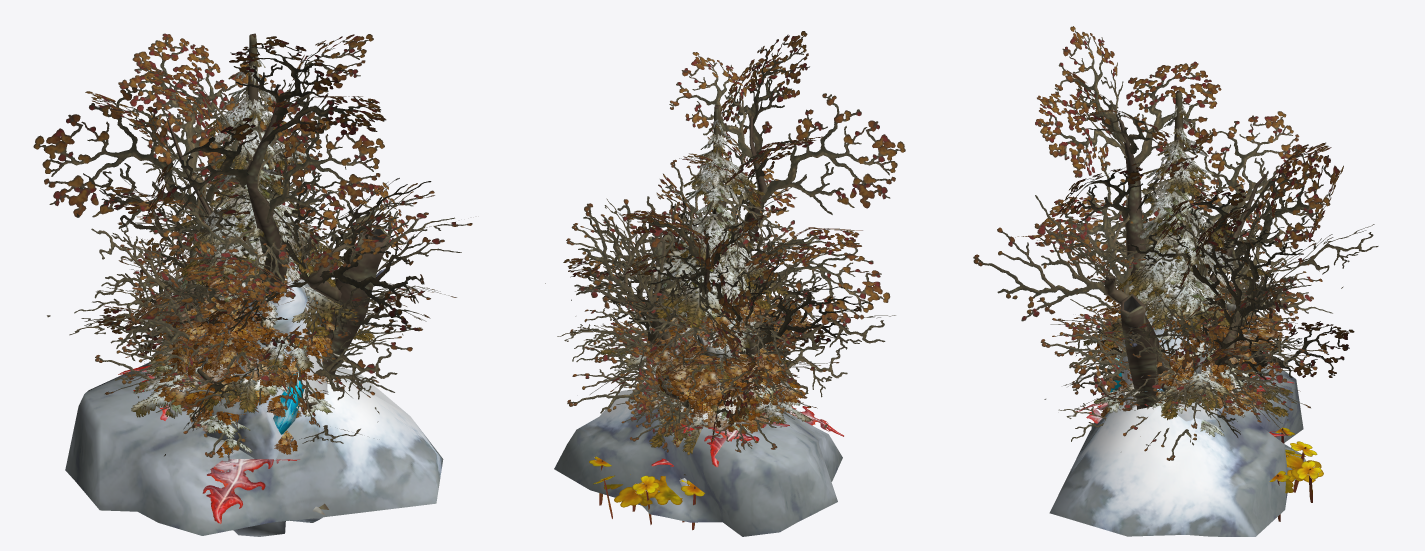
The model's file is Ziran.fbx.
3 renders of one model, left to right at view 1: azimuth 30°, elevation 25°; view 2: azimuth 150°, elevation 25°; view 3: azimuth 270°, elevation 25°, orthographic. The views are drawn at different scales.
Visible parts, largest first — view 1: Tree_10, Rock_04, Tree_15, Tree_07, Tree_05, Tree_11, Tree_06, Rock_03, Tree_12, Tree_09, Tree_13, bush_14 (+3 smaller); view 2: Tree_10, Rock_04, Tree_15, Tree_05, Tree_07, Tree_11, Tree_06, Tree_04, Tree_09, Tree_12, bush_13, Tree_13 (+2 smaller); view 3: Tree_10, Rock_04, Tree_15, Tree_07, Tree_06, Tree_05, Tree_11, Tree_04, Tree_13, Tree_09, bush_13, Tree_03 (+2 smaller).
Boxes of the visible parts, <box> form: Tree_10: <box>33,33,472,384</box>; Rock_04: <box>65,362,443,535</box>; Tree_15: <box>131,48,374,421</box>; Tree_07: <box>120,93,454,509</box>; Tree_05: <box>47,143,431,457</box>; Tree_11: <box>140,254,350,405</box>; Tree_06: <box>101,79,422,515</box>; Rock_03: <box>202,276,327,536</box>; Tree_12: <box>143,322,329,460</box>; Tree_09: <box>128,33,370,424</box>; Tree_13: <box>146,131,334,439</box>; bush_14: <box>118,364,299,523</box>; Tree_10: <box>563,31,905,388</box>; Rock_04: <box>554,388,842,536</box>; Tree_15: <box>600,119,812,454</box>; Tree_05: <box>574,196,895,475</box>; Tree_07: <box>566,159,861,406</box>; Tree_11: <box>633,288,816,447</box>; Tree_06: <box>545,198,839,421</box>; Tree_04: <box>610,285,819,452</box>; Tree_09: <box>626,105,805,435</box>; Tree_12: <box>648,343,794,434</box>; bush_13: <box>589,456,704,530</box>; Tree_13: <box>631,181,808,433</box>; Tree_10: <box>1015,26,1343,409</box>; Rock_04: <box>1049,363,1306,536</box>; Tree_15: <box>1083,105,1292,420</box>; Tree_07: <box>973,161,1315,428</box>; Tree_06: <box>1070,201,1378,469</box>; Tree_05: <box>1044,149,1308,460</box>; Tree_11: <box>1092,268,1284,415</box>; Tree_04: <box>1155,260,1354,419</box>; Tree_13: <box>1094,184,1255,436</box>; Tree_09: <box>1072,90,1294,436</box>; bush_13: <box>1269,427,1323,521</box>; Tree_03: <box>1068,239,1273,437</box>.
Size of the model in its own units: 23.09 by 27.8 by 24.11.
